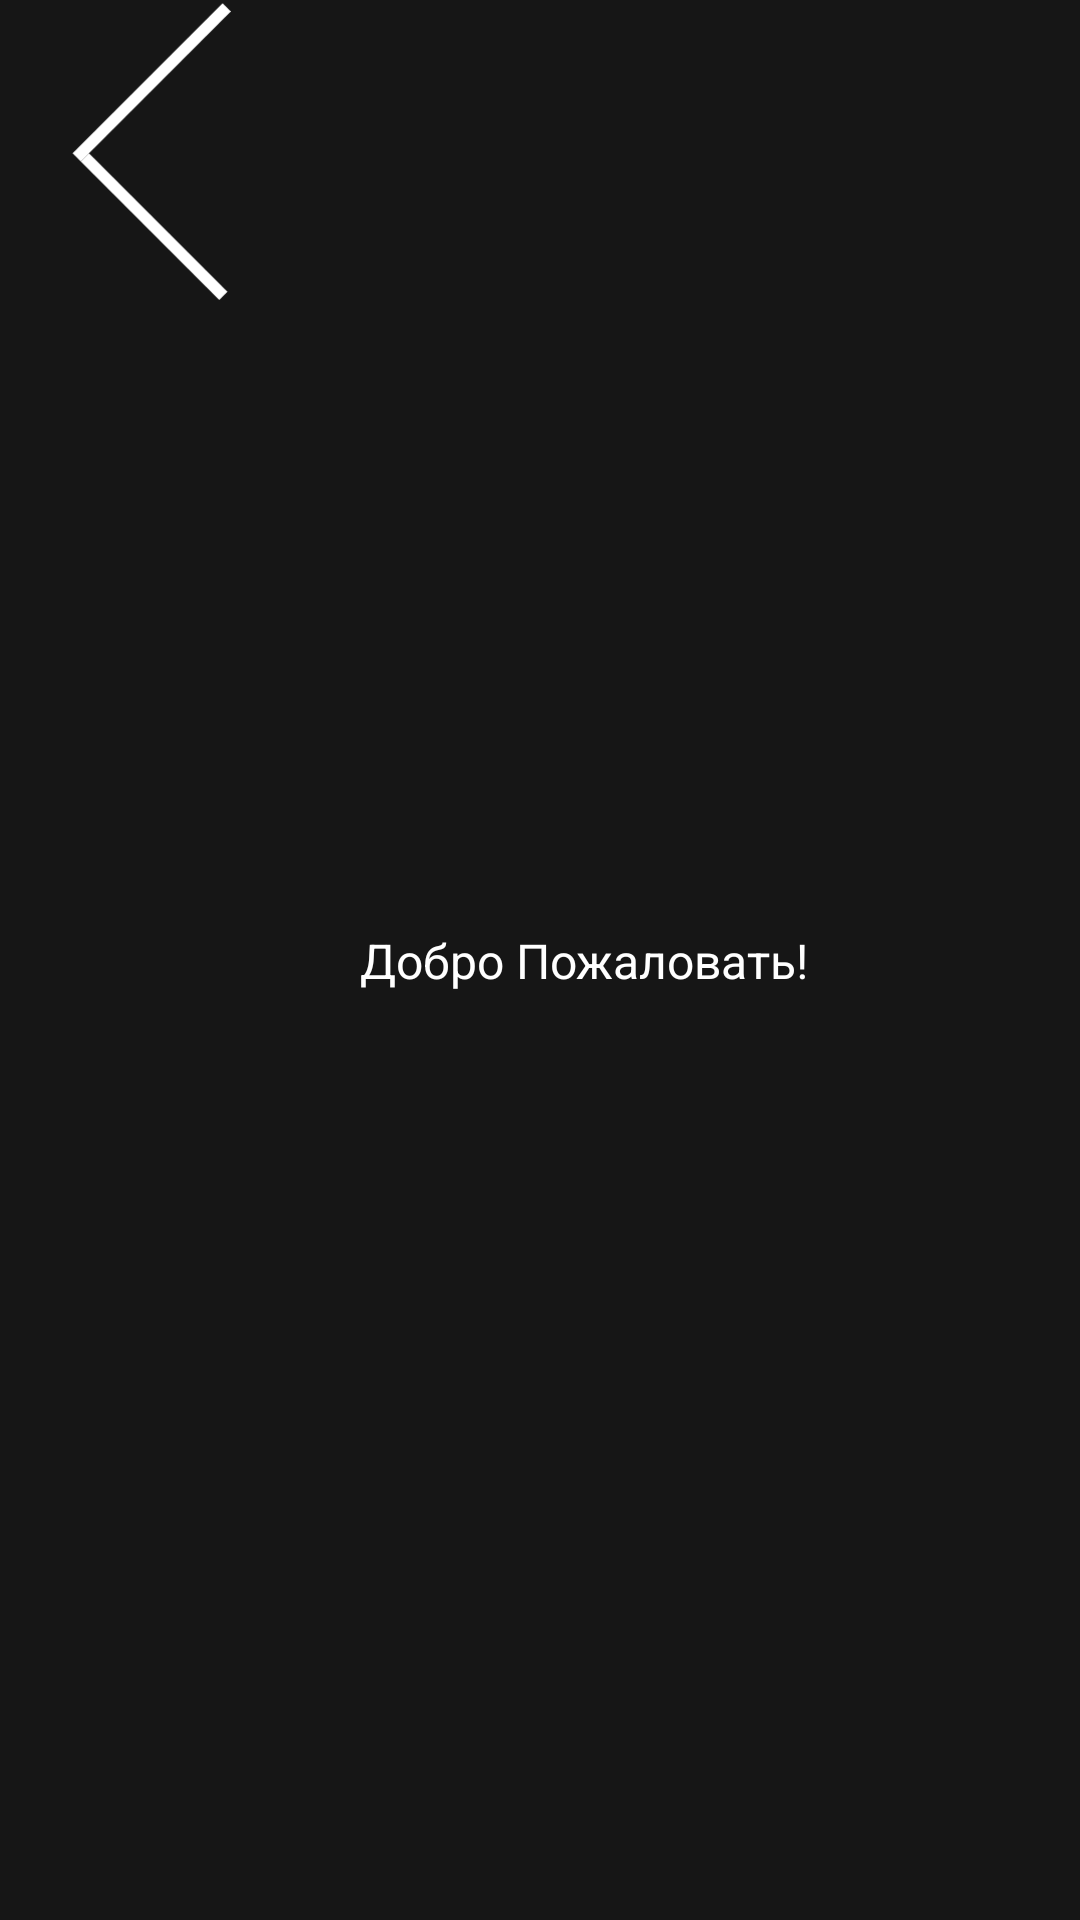

Locate icon controls on the screen. Image size 1080 × 1920, boxes as box=[x1, y1, x2, y2].
back: box=[72, 3, 231, 300]
